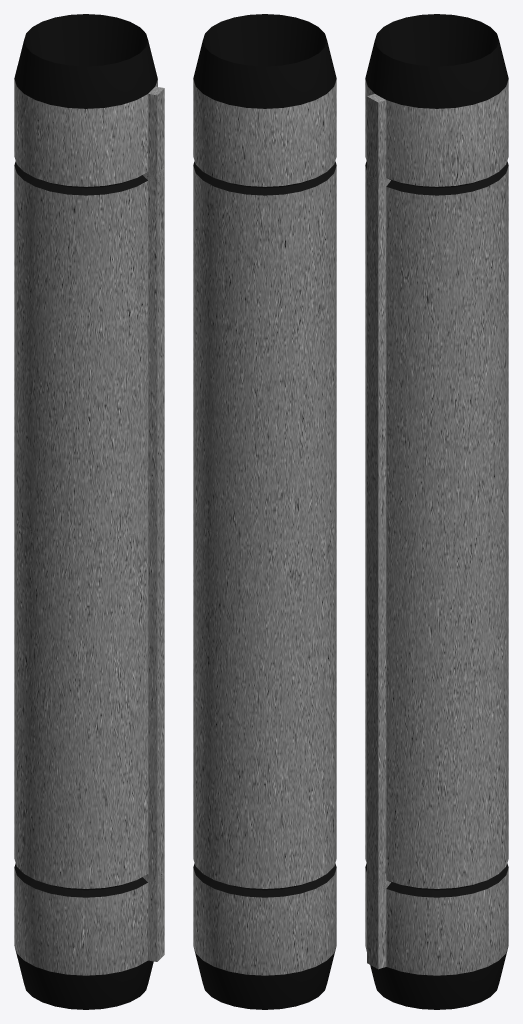
Rendered from FBX_ModuleThin.fbx.
3 renders of one model, left to right at view 1: azimuth 30°, elevation 25°; view 2: azimuth 150°, elevation 25°; view 3: azimuth 270°, elevation 25°, orthographic.
Parts seen in each view (by area): view 1: Module Long Thin Export; view 2: Module Long Thin Export; view 3: Module Long Thin Export.
Part boxes in pixels (x1,y1,x2,y2): Module Long Thin Export: (14, 14, 164, 1009); Module Long Thin Export: (193, 14, 336, 1009); Module Long Thin Export: (365, 14, 508, 1009).
Size of the model in its own units: 0.6 by 0.6 by 4.35.
